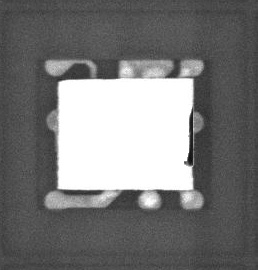DIE_BROKEN: (184, 107, 193, 168)
